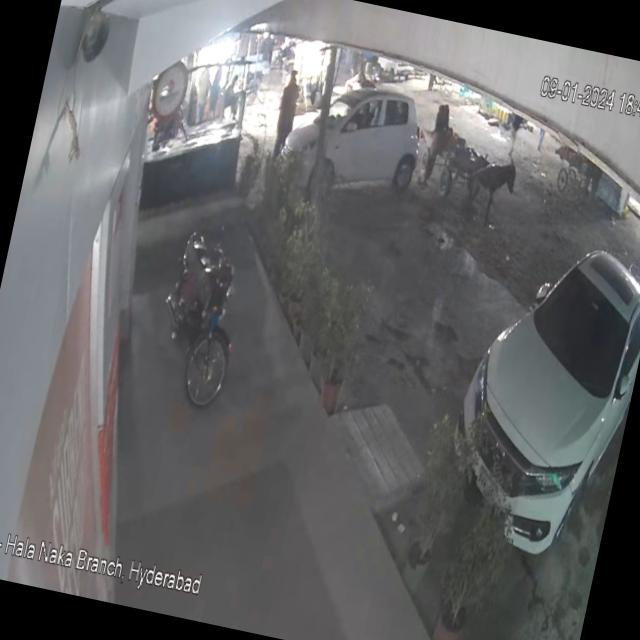Car: (428, 210, 640, 584), (273, 72, 447, 222)
